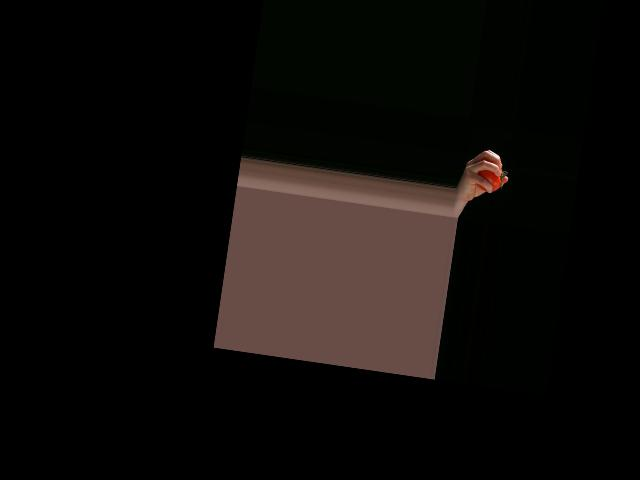tomato: (474, 165, 502, 193)
